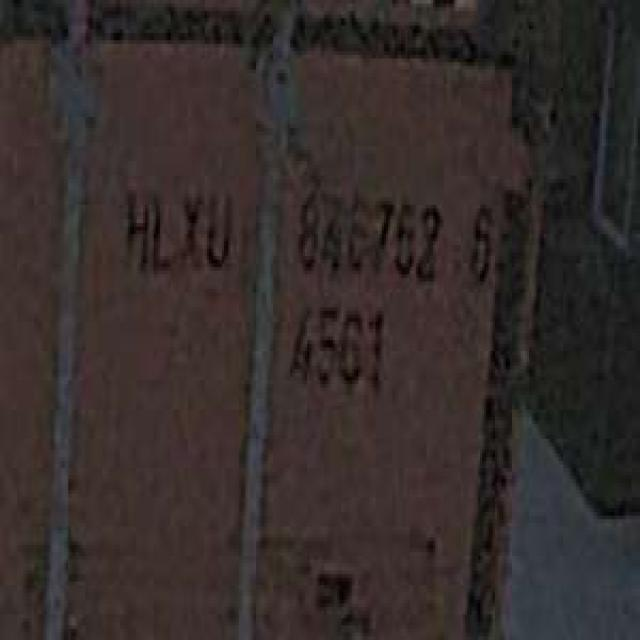dv: (463, 190, 497, 285)
owner: (117, 168, 237, 285)
serial: (292, 175, 446, 289)
size: (284, 297, 394, 397)
